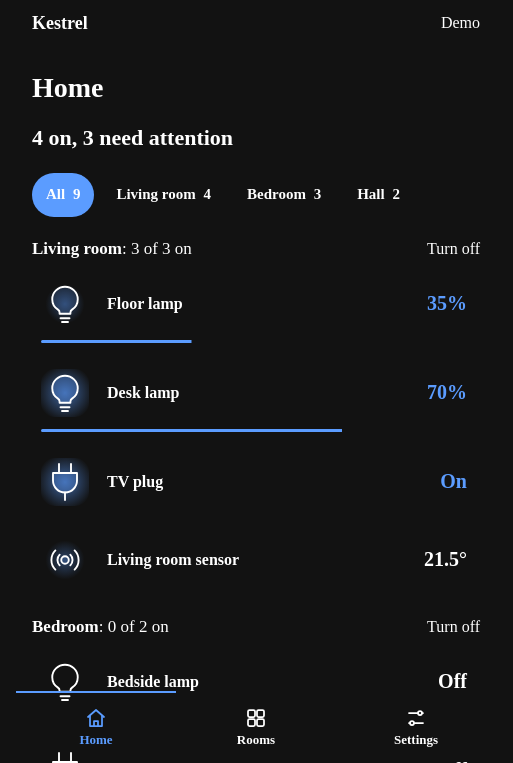
Test: App › moves between the tabs through real links, marking the current one
Click the link "Rooms": point(256, 726) [237,706,275,747]
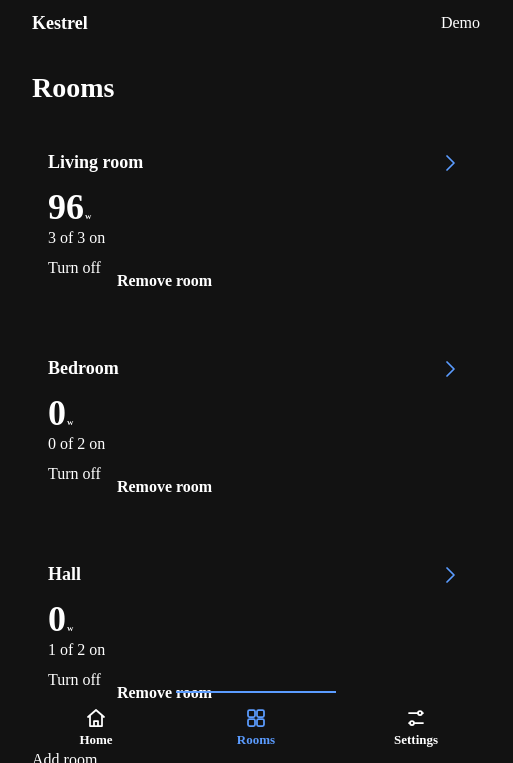
Result: the heading "Rooms" is shown at [32,72,114,103]
Click the link "Settings": point(416, 726) [394,706,438,747]
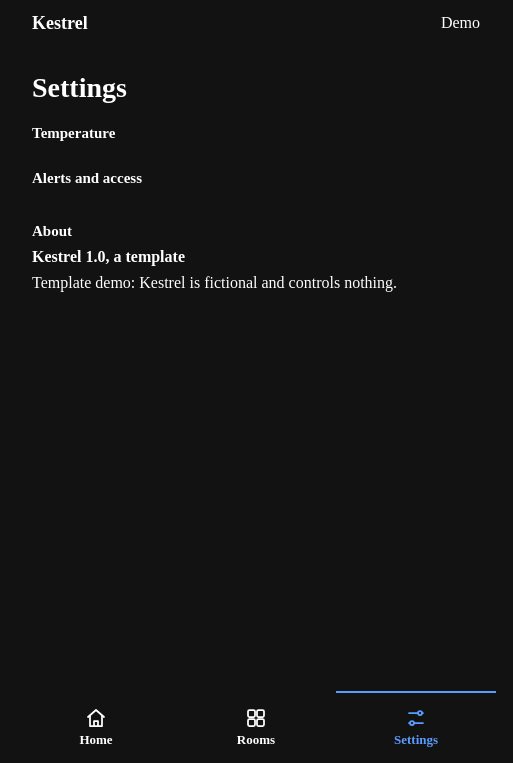
Result: the heading "Settings" is shown at [32,72,127,103]
